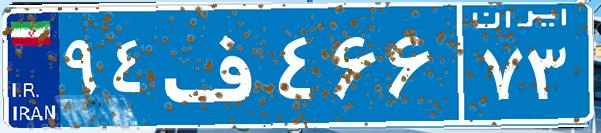3: (525, 38, 570, 115)
4: (273, 28, 330, 110), (110, 28, 158, 105)
6: (385, 28, 445, 110), (330, 28, 385, 110)
7: (475, 38, 525, 113)
9: (57, 26, 110, 107)
ف: (158, 15, 273, 115)
